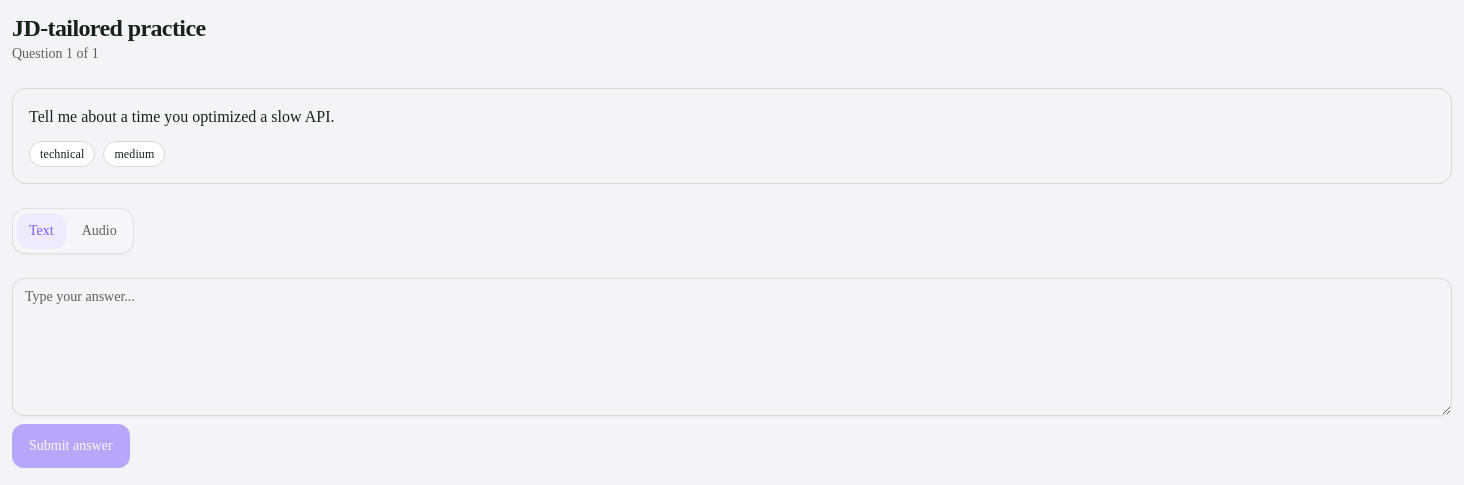
Test: JdPracticeSessionView › hides the sample answer until after the candidate submits an attempt
Expected: the text "Tell me about a time you optimized a slow API." is shown, [29, 108, 334, 125]
Expected: the text "A strong answer covers profiling, the bottleneck, and the fix." is not shown
In the text box with placeholder "Type your answer...": (732, 347) [12, 278, 1452, 416], type "I profiled the endpoint and found an N+1 query."
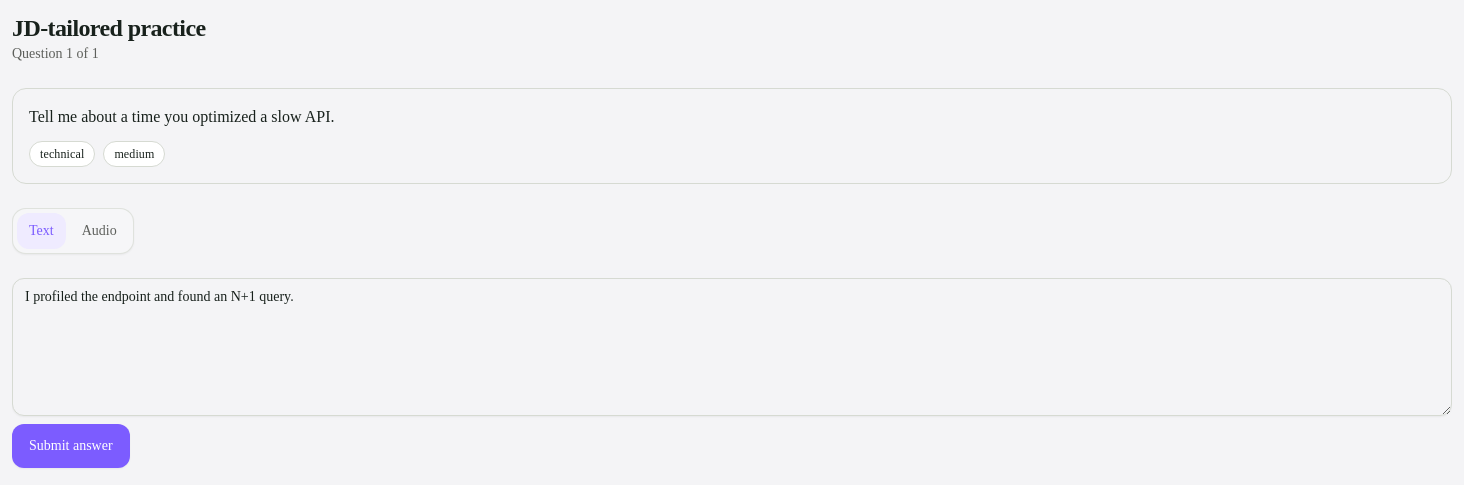
Click the button "Submit answer": (71, 446) [12, 424, 130, 468]
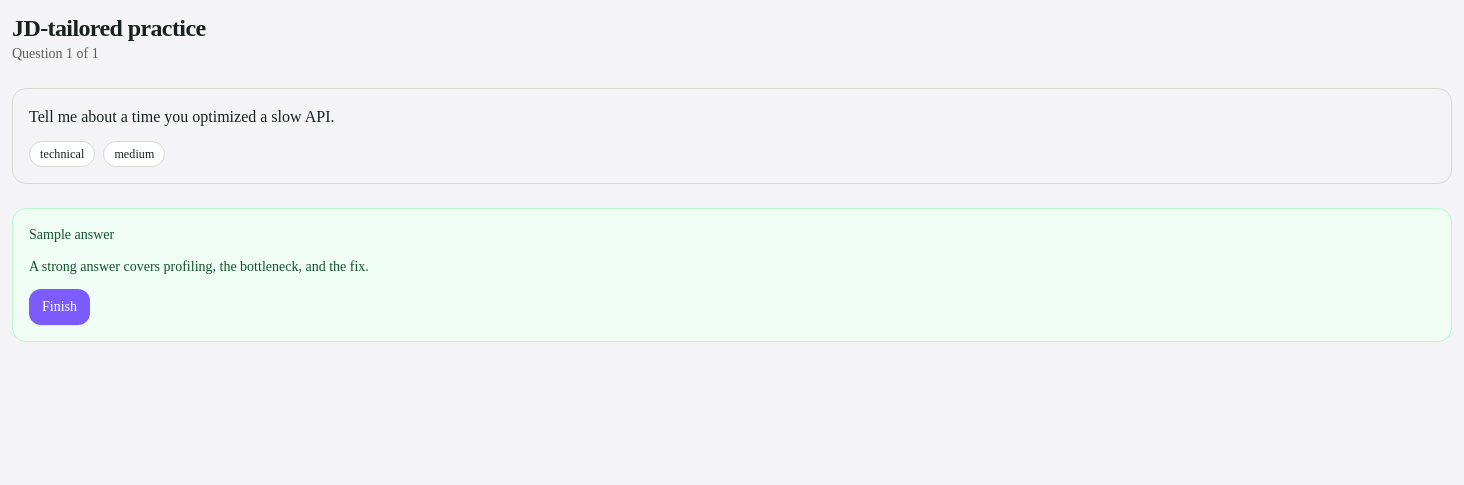
Expected: the text "A strong answer covers profiling, the bottleneck, and the fix." is shown, [29, 259, 369, 274]
